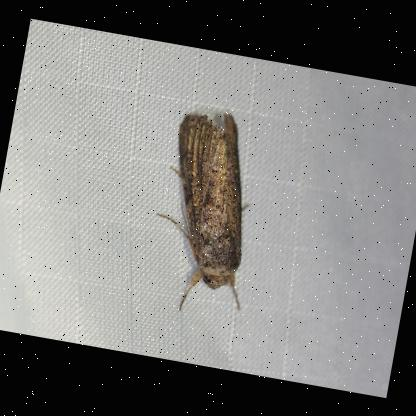Fall Armyworm Moth: (137, 101, 276, 322)
